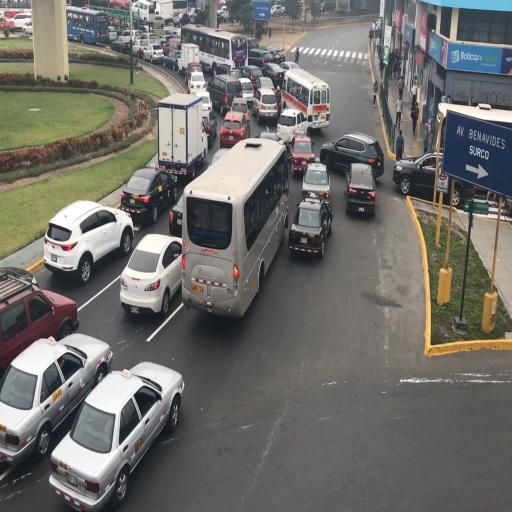auto: (48, 362, 181, 510), (0, 330, 113, 468), (1, 268, 78, 393), (43, 194, 133, 279), (120, 233, 183, 316), (395, 151, 476, 206), (120, 163, 178, 222), (320, 132, 380, 180), (42, 219, 80, 275), (344, 161, 375, 216), (208, 73, 243, 116), (300, 160, 329, 204), (290, 134, 318, 178), (219, 109, 250, 148), (277, 105, 306, 145), (252, 86, 279, 125), (261, 62, 285, 90), (242, 65, 266, 90), (123, 33, 145, 57), (196, 91, 214, 120), (142, 42, 164, 63), (248, 48, 271, 68), (162, 48, 182, 70), (265, 46, 285, 65), (161, 38, 180, 58), (278, 60, 300, 76), (15, 15, 32, 32), (173, 10, 191, 26), (259, 130, 279, 144), (153, 14, 166, 30), (272, 4, 286, 17), (173, 15, 181, 26), (224, 8, 230, 18)
bus: (180, 138, 286, 314), (282, 66, 329, 132), (182, 24, 237, 76), (66, 6, 111, 45), (132, 0, 155, 24)
camion: (156, 91, 206, 183), (178, 42, 200, 78)
